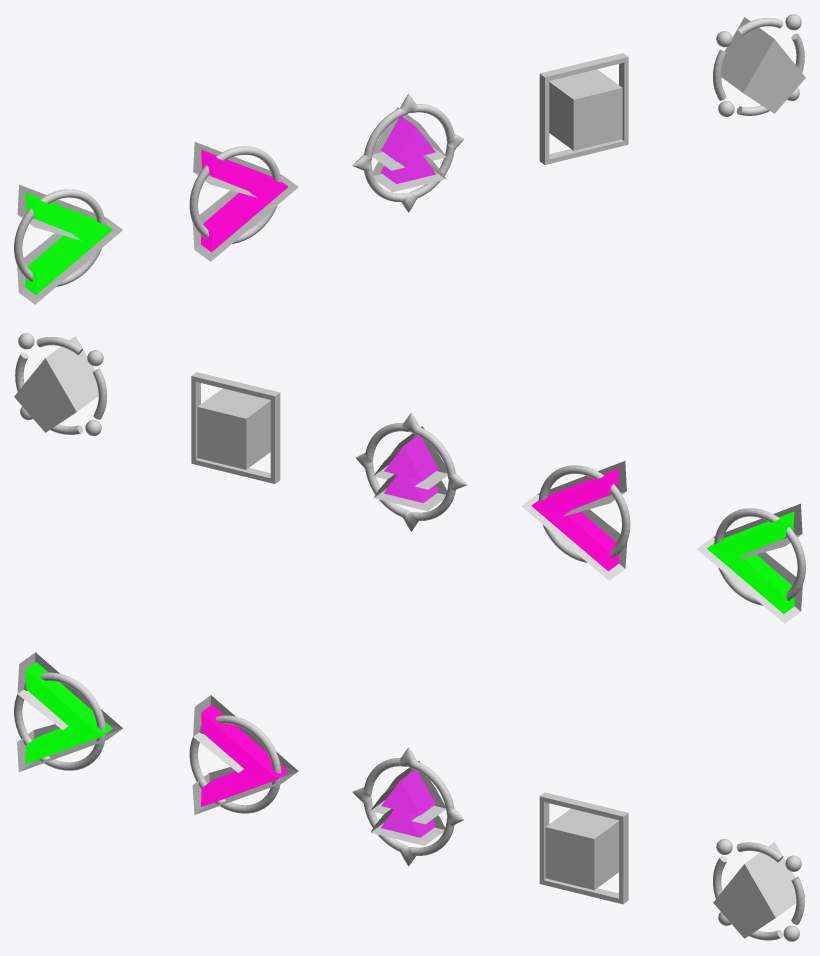
Rendered from gd_special_orbs.glb.
3 views of the same model, one above another, from view 1: azimuth 30°, elevation 25°; view 2: azimuth 150°, elevation 25°; view 3: azimuth 330°, elevation 25° (orthographic).
Parts seen in each view (by area): view 1: Cube_1, Cube.001_3, Cube.004_8, Cube.006_10, Cube.005_9, Torus.002_5, Cube.002_6, Cube.003_7, Torus.001_4, Torus_2, Torus.003_13; view 2: Cube_1, Cube.001_3, Cube.004_8, Cube.006_10, Cube.005_9, Torus.002_5, Cube.002_6, Cube.003_7, Torus.001_4, Torus_2, Torus.003_13; view 3: Cube_1, Cube.001_3, Cube.004_8, Cube.006_10, Cube.005_9, Torus.002_5, Cube.002_6, Torus_2, Torus.001_4, Cube.003_7, Torus.003_13.
Boxes of the visible parts, bbox=[...] form: Cube_1: bbox=[17, 184, 122, 304]; Cube.001_3: bbox=[192, 142, 298, 261]; Cube.004_8: bbox=[549, 69, 622, 150]; Cube.006_10: bbox=[721, 17, 805, 113]; Cube.005_9: bbox=[539, 53, 628, 164]; Torus.002_5: bbox=[352, 93, 463, 212]; Cube.002_6: bbox=[381, 116, 436, 183]; Cube.003_7: bbox=[372, 107, 446, 192]; Torus.001_4: bbox=[189, 146, 281, 243]; Torus_2: bbox=[14, 189, 105, 286]; Torus.003_13: bbox=[713, 18, 804, 115]; Cube_1: bbox=[697, 503, 802, 623]; Cube.001_3: bbox=[521, 461, 627, 580]; Cube.004_8: bbox=[197, 388, 270, 469]; Cube.006_10: bbox=[14, 336, 98, 432]; Cube.005_9: bbox=[191, 372, 280, 483]; Torus.002_5: bbox=[356, 412, 467, 531]; Cube.002_6: bbox=[383, 435, 438, 502]; Cube.003_7: bbox=[373, 426, 447, 511]; Torus.001_4: bbox=[538, 465, 630, 562]; Torus_2: bbox=[714, 508, 805, 605]; Torus.003_13: bbox=[15, 337, 106, 434]; Cube_1: bbox=[17, 652, 122, 771]; Cube.001_3: bbox=[192, 695, 298, 814]; Cube.004_8: bbox=[545, 808, 618, 890]; Cube.006_10: bbox=[713, 842, 805, 938]; Cube.005_9: bbox=[539, 792, 628, 904]; Torus.002_5: bbox=[352, 747, 464, 866]; Cube.002_6: bbox=[381, 770, 435, 837]; Torus_2: bbox=[14, 672, 105, 770]; Torus.001_4: bbox=[189, 715, 281, 813]; Cube.003_7: bbox=[370, 761, 445, 845]; Torus.003_13: bbox=[713, 842, 804, 940].
Bounding box in the file's own units: 5.97 × 0.8631 × 0.3947.
